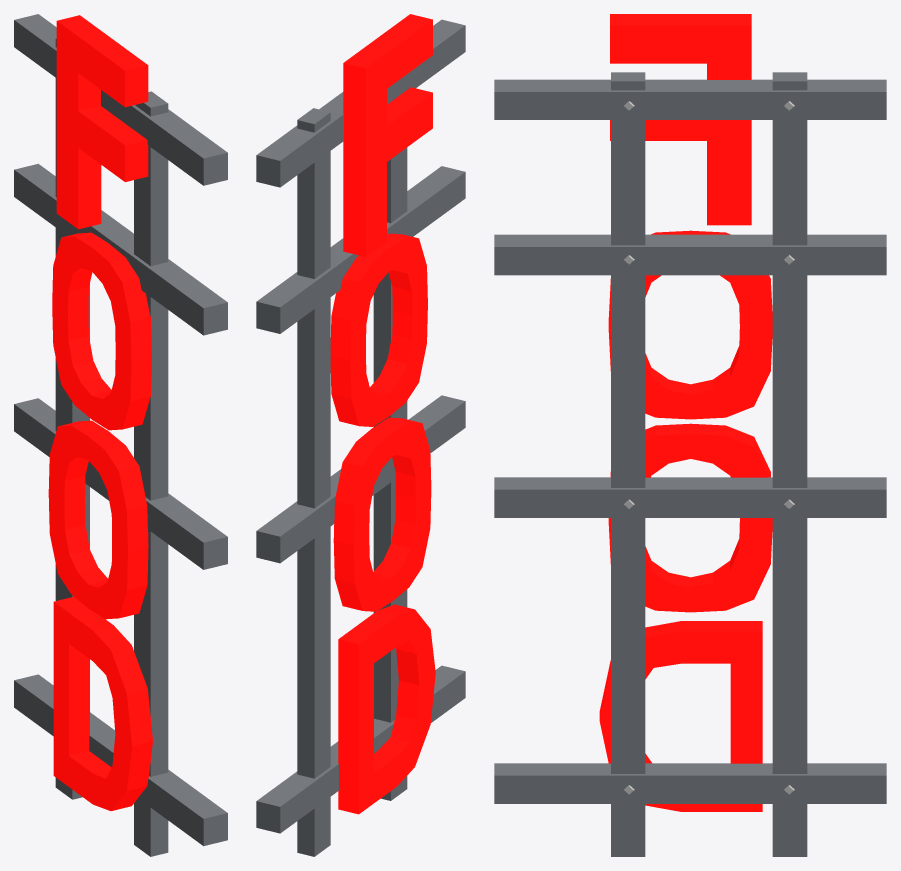
The model's file is SM_Hoarding_02_B.fbx.
3 views of the same model, side by side, from view 1: azimuth 30°, elevation 25°; view 2: azimuth 150°, elevation 25°; view 3: azimuth 270°, elevation 25° (orthographic). The views are drawn at different scales.
Parts seen in each view (by area): view 1: SM_Hoarding_02_B_LOD0; view 2: SM_Hoarding_02_B_LOD0; view 3: SM_Hoarding_02_B_LOD0.
Part boxes in pixels (x1,y1,x2,y2): SM_Hoarding_02_B_LOD0: (14, 14, 227, 856); SM_Hoarding_02_B_LOD0: (256, 14, 465, 856); SM_Hoarding_02_B_LOD0: (494, 14, 886, 856).
Bounding box in the file's own units: 45.44 × 308 × 710.
1 material, 1 textured.
